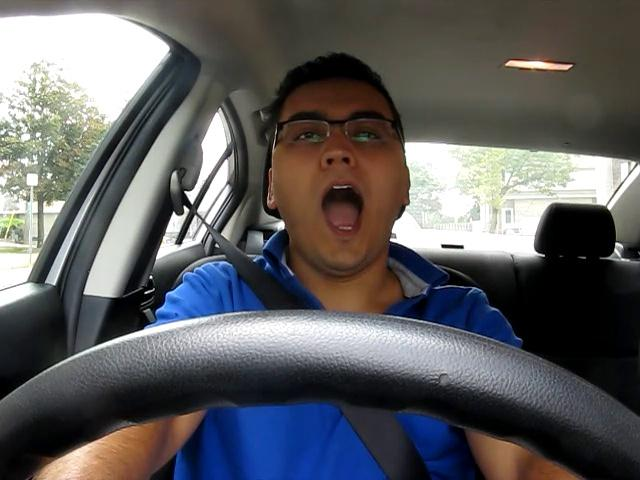close_eyeL: (280, 121, 336, 154)
close_eyeR: (341, 121, 398, 153)
yawn: (305, 178, 383, 240)
